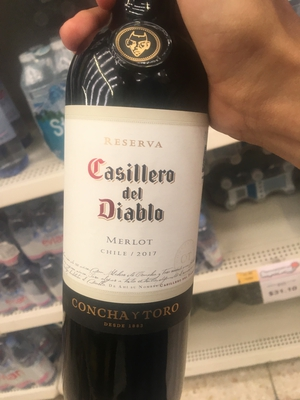casillero del diablo merlot: (60, 9, 214, 400)
